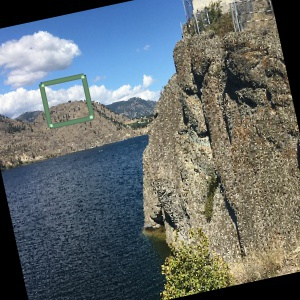square: (37, 72, 97, 130)
